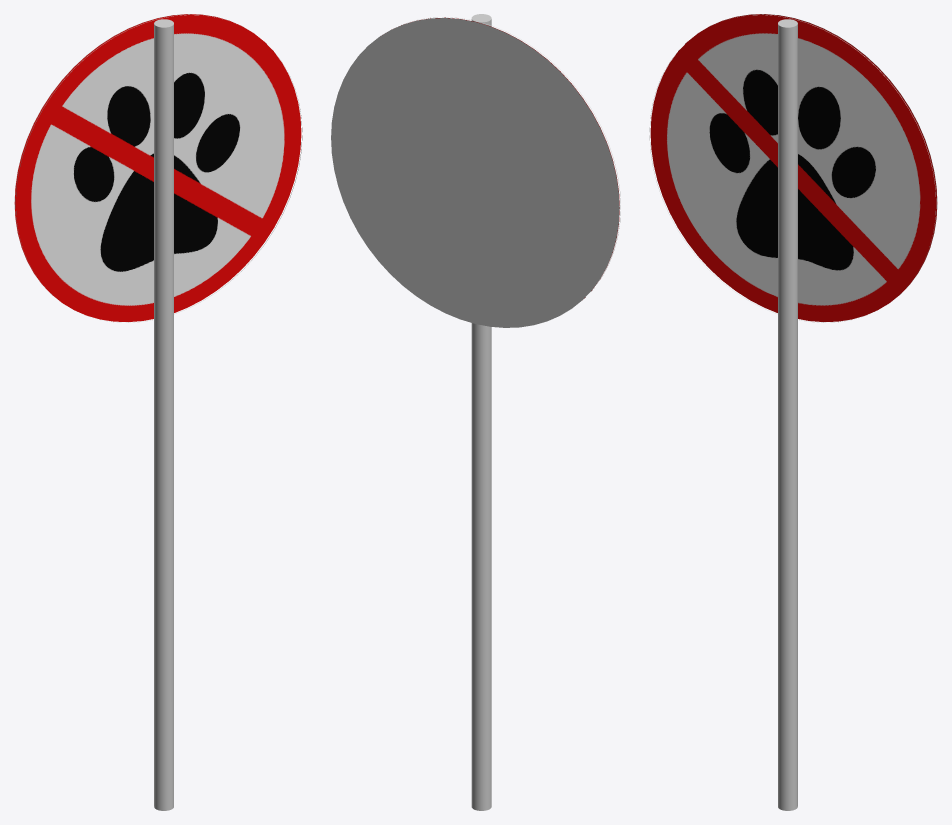
Rendered from no-pets-sign-model3.fbx.
3 renders of one model, left to right at view 1: azimuth 30°, elevation 25°; view 2: azimuth 150°, elevation 25°; view 3: azimuth 330°, elevation 25°, orthographic.
Parts seen in each view (by area): view 1: Cylinder; view 2: Cylinder; view 3: Cylinder.
Part boxes in pixels (x1=…): Cylinder: x1=14, y1=14, x2=302, y2=810; Cylinder: x1=331, y1=14, x2=620, y2=810; Cylinder: x1=649, y1=14, x2=937, y2=810.
Bounding box in the file's own units: 383 × 1001 × 26.05.
2 materials, 1 textured.
